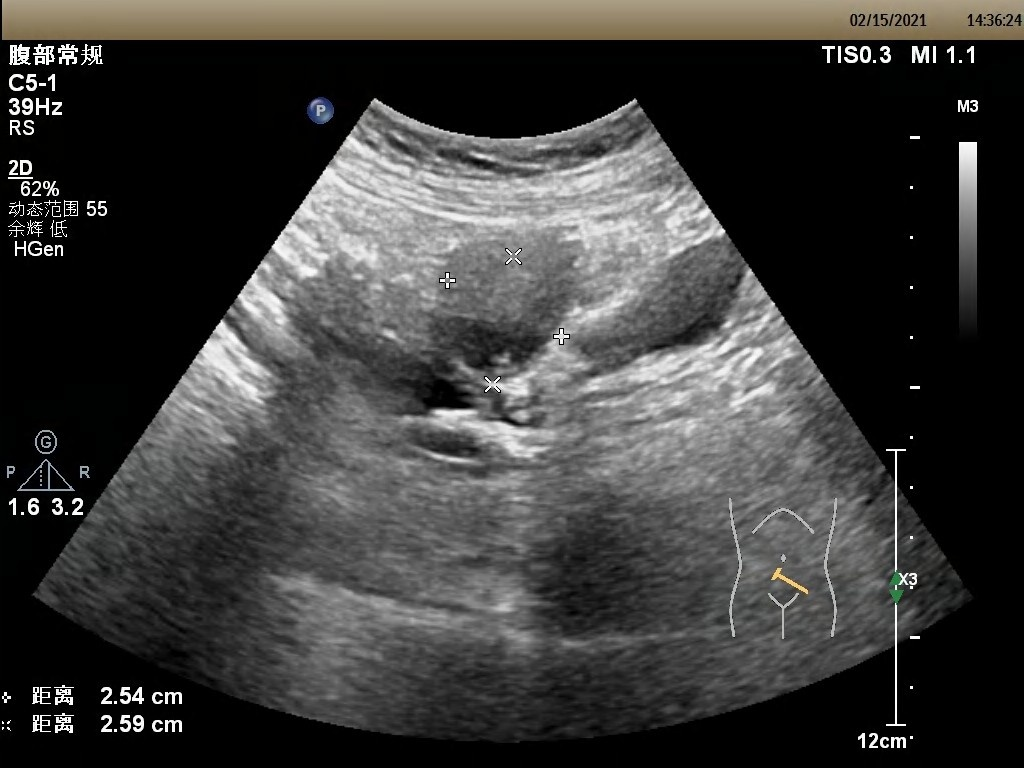肌瘤: (447, 256, 563, 389)
